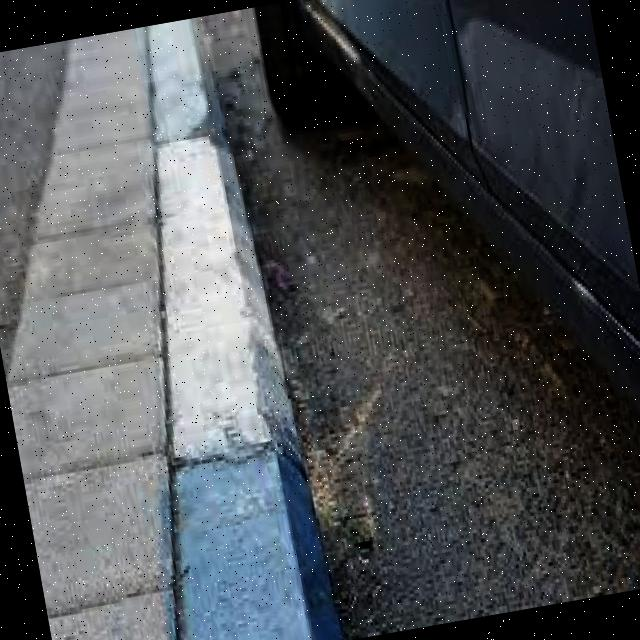curb: (148, 19, 346, 640)
